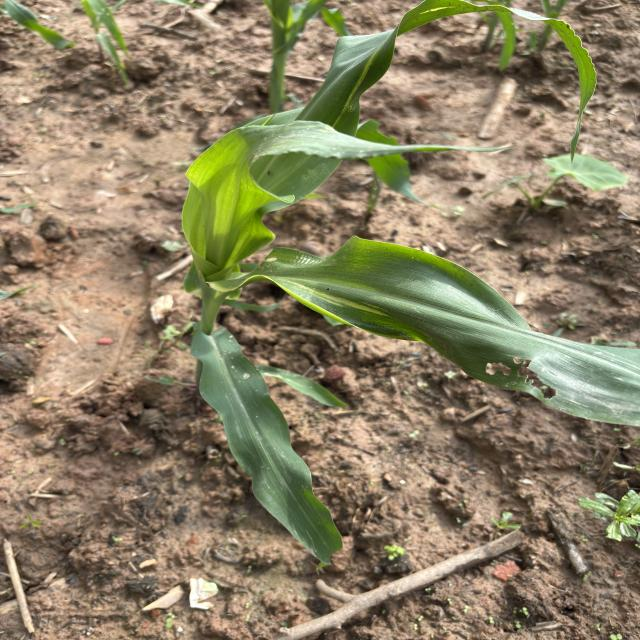maize: (210, 104, 534, 447), (0, 0, 625, 101), (215, 407, 335, 555), (523, 317, 640, 431)
weed: (582, 476, 640, 585), (552, 147, 624, 209)
